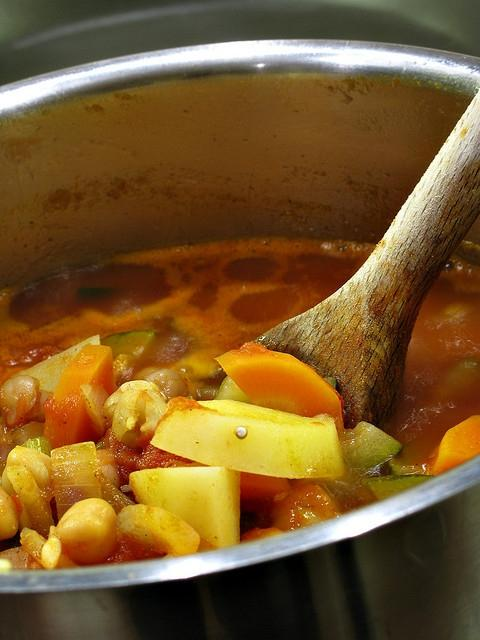carrot: (214, 342, 344, 429), (42, 345, 116, 450), (432, 415, 480, 476)
onion: (50, 440, 102, 522), (7, 465, 56, 540), (20, 527, 80, 569), (94, 469, 136, 516), (80, 384, 110, 437)
